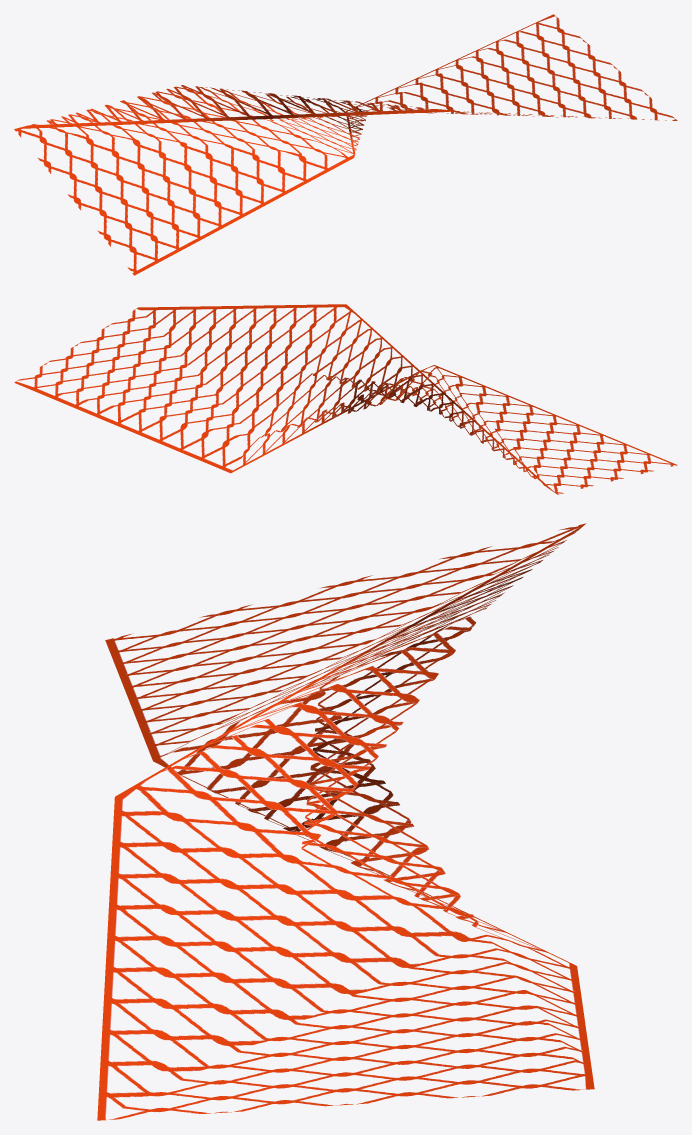
Rendered from orangeFence_loose_3.fbx.
The picture shows the model from 3 angles, top to bottom: view 1: azimuth 30°, elevation 25°; view 2: azimuth 150°, elevation 25°; view 3: azimuth 270°, elevation 25°; orthographic projection. The views are drawn at different scales.
Parts seen in each view (by area): view 1: Plane01, Duplicate02; view 2: Plane01, Duplicate02; view 3: Plane01, Duplicate02.
Boxes of the visible parts, <box> form: Plane01: <box>14,14,677,275</box>; Duplicate02: <box>15,18,675,264</box>; Plane01: <box>14,304,677,494</box>; Duplicate02: <box>18,305,671,493</box>; Plane01: <box>97,523,594,1120</box>; Duplicate02: <box>98,524,593,1119</box>.
Size of the model in its own units: 210 by 32.62 by 83.3.
